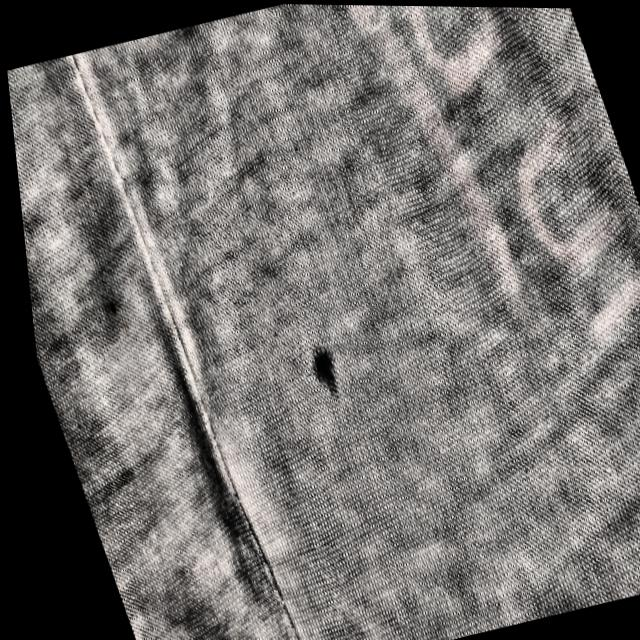Hole: (288, 329, 347, 405)
